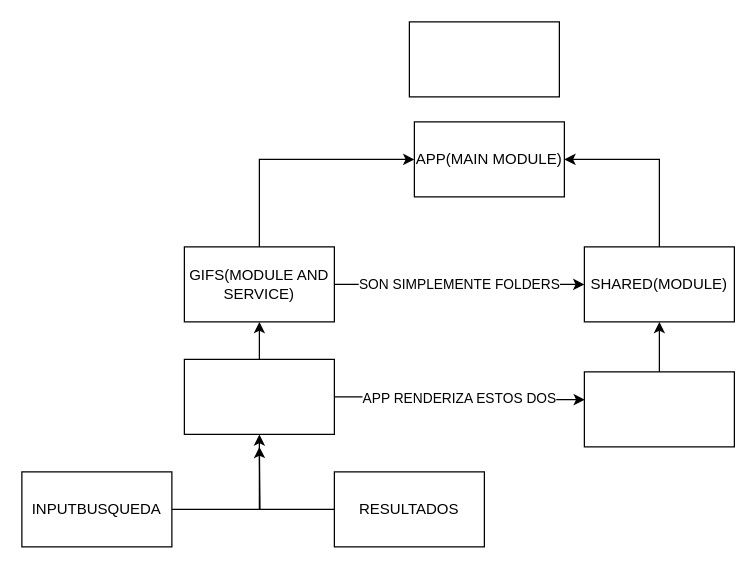
Some shapes in this 756 by 569 pixel diagram are drawn without their labels. Here are the shapes that lost their labels. From the top down, the centre of each, then its label:
At (x=483, y=59): "SRC".
At (x=258, y=396): "GIFSPAGE".
At (x=658, y=409): "SIDEBAR".
